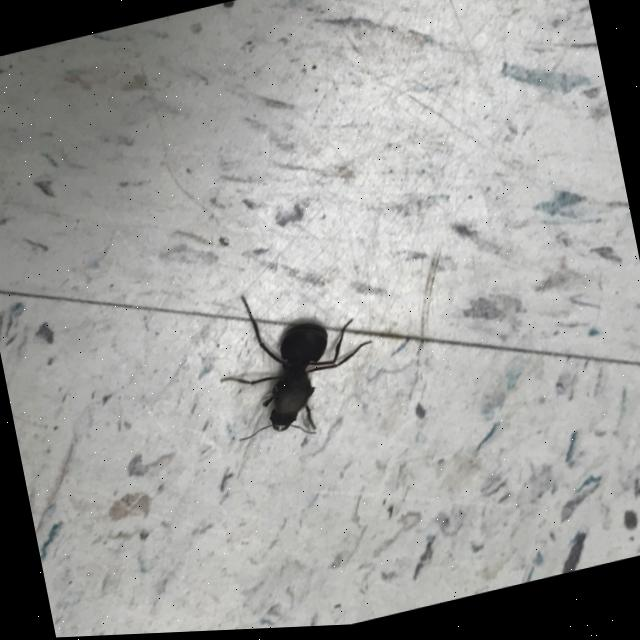Alive-Female-Dealate: (204, 271, 389, 457)
